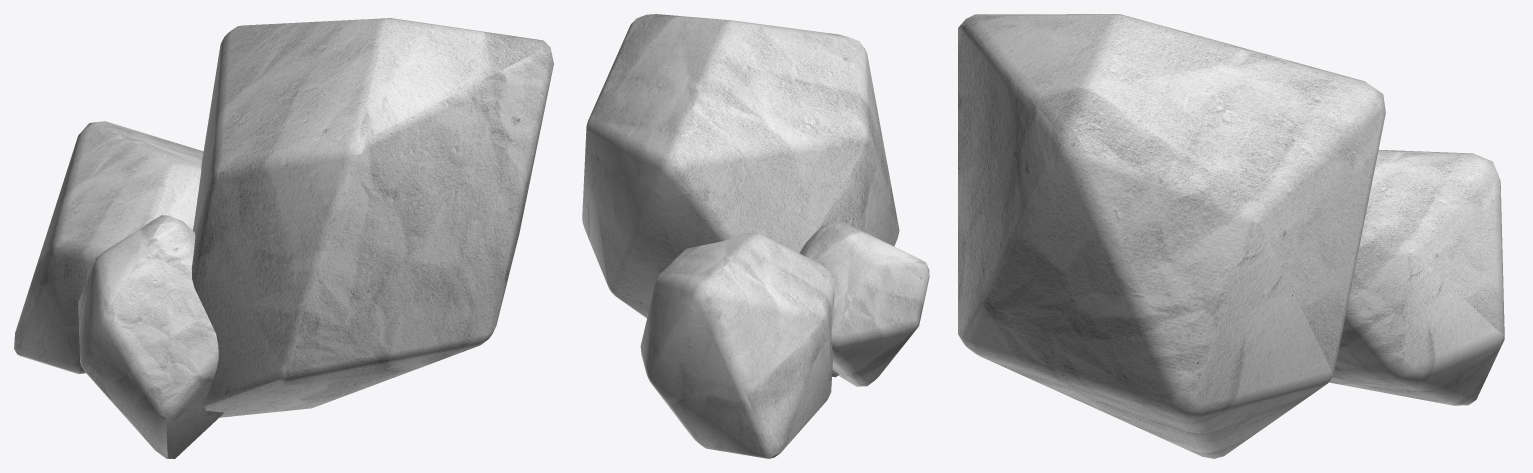
Rendered from TOMB_DECOR_ROCKS_002.obj.
The picture shows the model from 3 angles, left to right: view 1: azimuth 30°, elevation 25°; view 2: azimuth 150°, elevation 25°; view 3: azimuth 270°, elevation 25°; orthographic projection. The views are drawn at different scales.
Visible parts, largest first — view 1: TOMB_DECOR_ROCKS_002; view 2: TOMB_DECOR_ROCKS_002; view 3: TOMB_DECOR_ROCKS_002.
Part boxes in pixels (x1=…): TOMB_DECOR_ROCKS_002: x1=14, y1=18, x2=553, y2=458; TOMB_DECOR_ROCKS_002: x1=582, y1=14, x2=929, y2=458; TOMB_DECOR_ROCKS_002: x1=958, y1=14, x2=1504, y2=458.
Size of the model in its own units: 0.7014 by 0.6336 by 0.7001.
